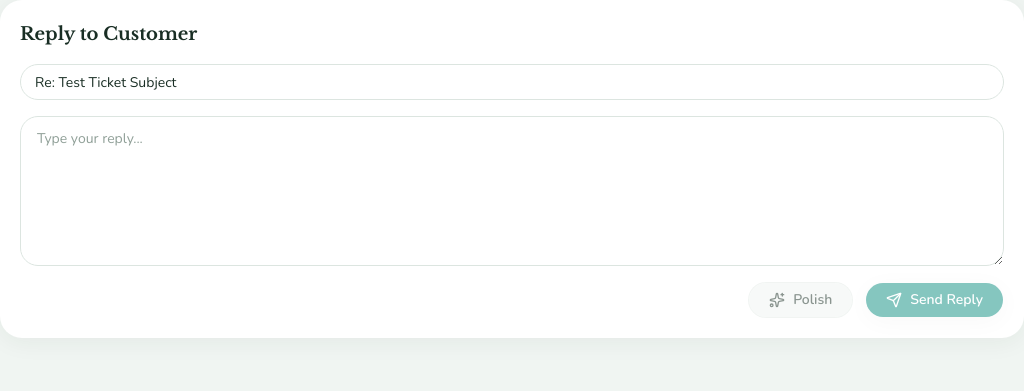
Test: ReplyForm › displays error message on polish failure
Check: the text "Reply to Customer" is shown, box [20,23,197,45]
Type "Test reply" into the text box with placeholder "Type your reply..." at (512,191), box [20,116,1004,266]
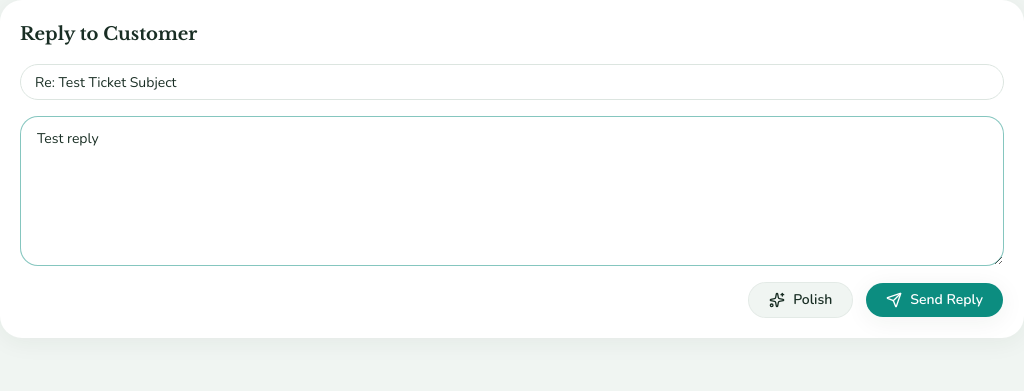
Click the button "Polish" at (801,300), box [748,282,853,318]
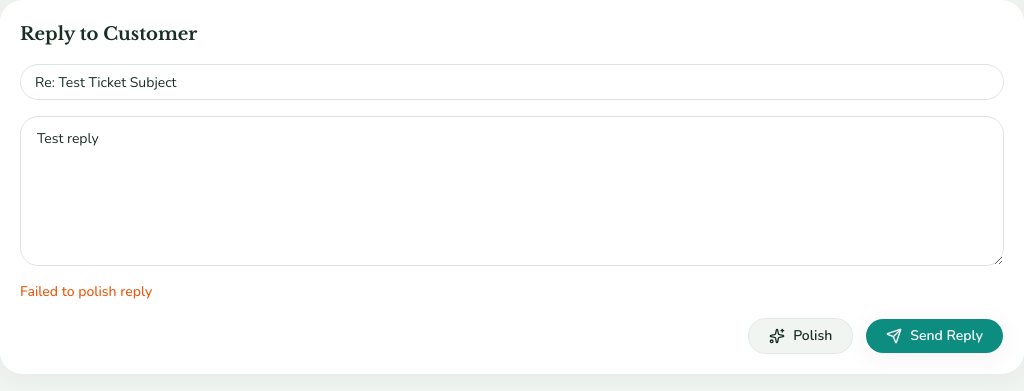
Check: the text "Failed to polish reply" is shown, box [20,282,152,301]
